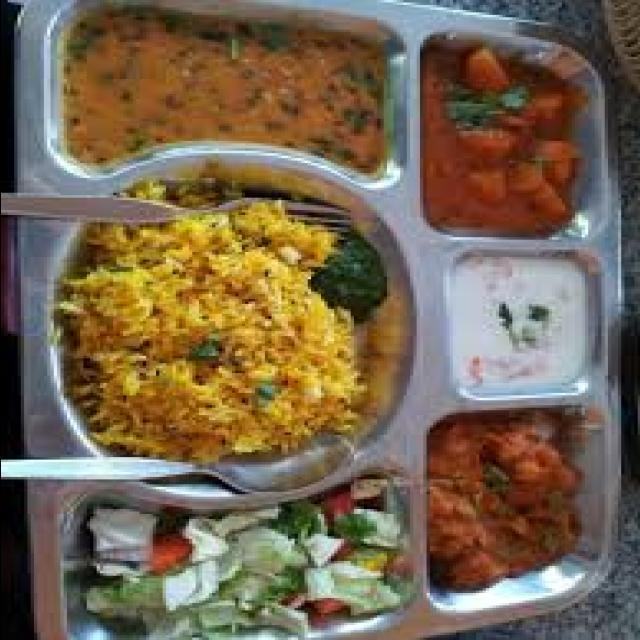rice: (70, 212, 386, 462)
veg-fry: (423, 409, 591, 612)
